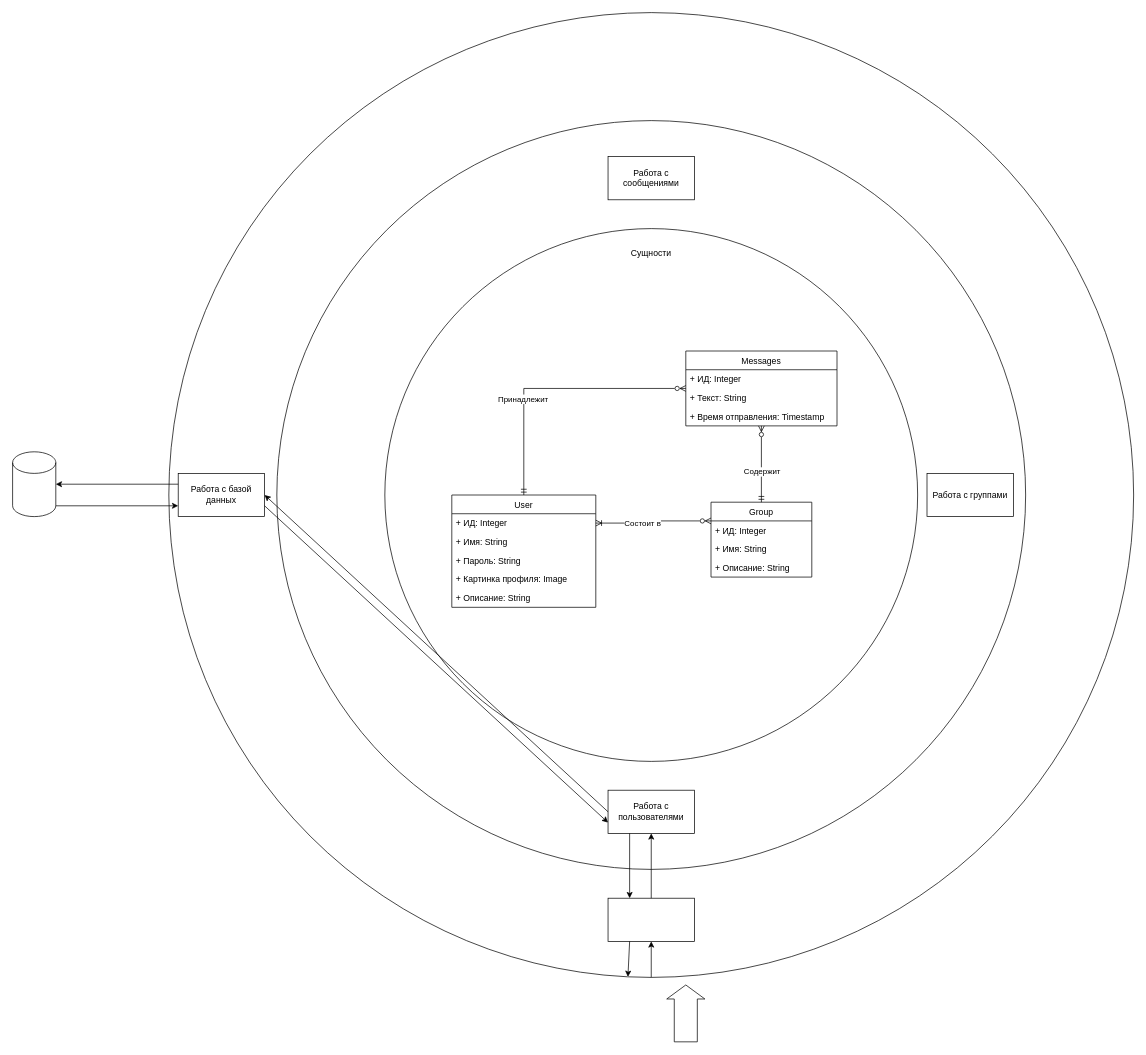
Image size: 1146x1055. Some labels were removed from this diagram. The shapes that lost their labels are listed below. From the top down, each one's centre as x and y in pixels, then its label:
[34,484]: База данных
[650,919]: Работа с интернет-запроса
